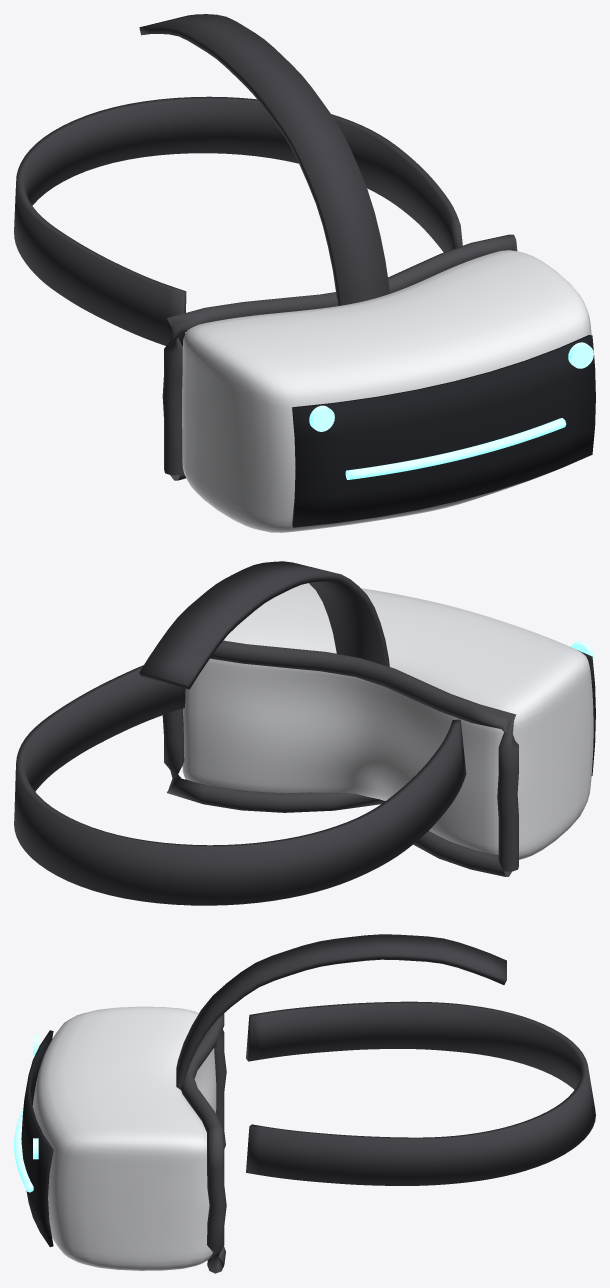
Rendered from acc_glasses_vr_female.glb.
3 renders of one model, top to bottom at view 1: azimuth 30°, elevation 25°; view 2: azimuth 150°, elevation 25°; view 3: azimuth 270°, elevation 25°, orthographic. The views are drawn at different scales.
Visible parts, largest first — view 1: glasses_vr; view 2: glasses_vr; view 3: glasses_vr.
Part boxes in pixels (x1,y1,x2,y2): glasses_vr: [14, 14, 595, 532]; glasses_vr: [14, 561, 595, 905]; glasses_vr: [14, 934, 595, 1273].
Bounding box in the file's own units: 0.1744 × 0.1518 × 0.3044.
